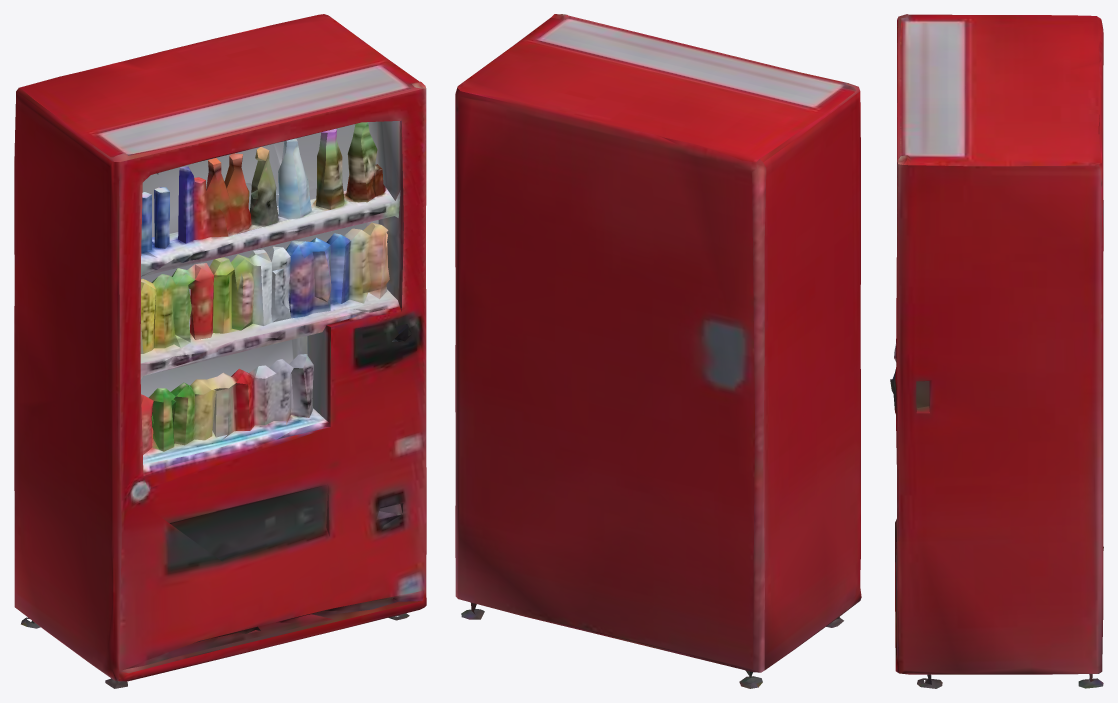
File: vending.glb
3 renders of one model, left to right at view 1: azimuth 30°, elevation 25°; view 2: azimuth 150°, elevation 25°; view 3: azimuth 270°, elevation 25°, orthographic.
Parts seen in each view (by area): view 1: vending; view 2: vending; view 3: vending.
Part boxes in pixels (x1=…): vending: x1=14, y1=14, x2=426, y2=688; vending: x1=455, y1=14, x2=861, y2=688; vending: x1=890, y1=14, x2=1103, y2=688.
Size of the model in its own units: 1.12 by 1.85 by 0.6742.
1 material, 1 textured.
